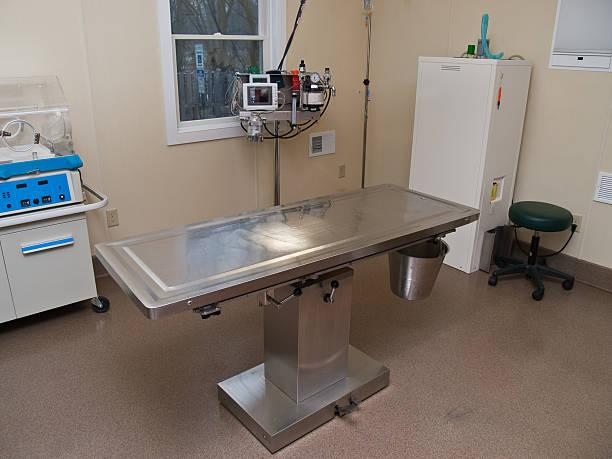Monitor: (233, 75, 285, 119)
bed: (78, 172, 475, 459)
stool: (487, 200, 576, 300)
